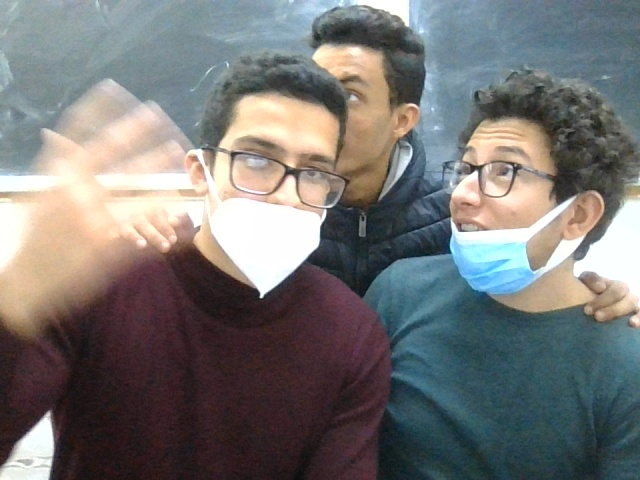mask_weared_incorrect: (441, 66, 610, 298), (196, 41, 335, 288)
